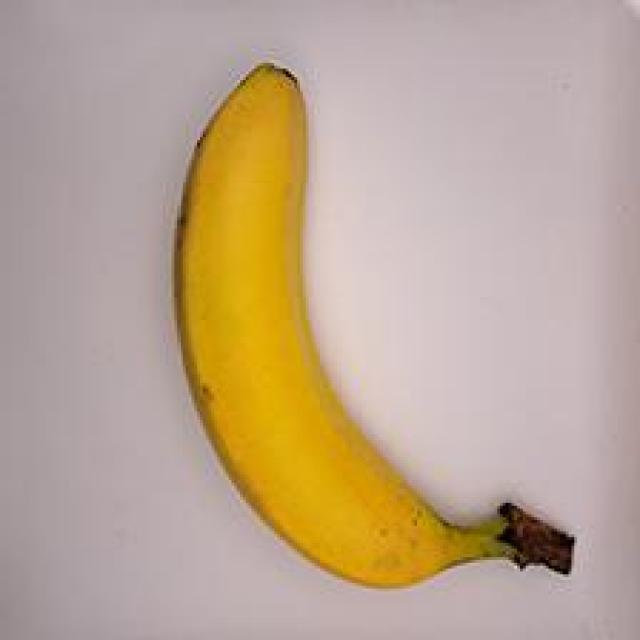Ripe: (117, 31, 596, 618)
